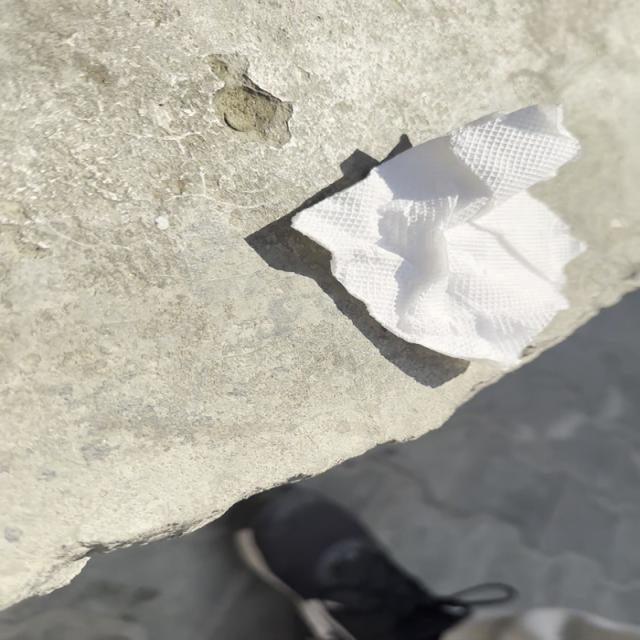tissue: (275, 95, 595, 377)
